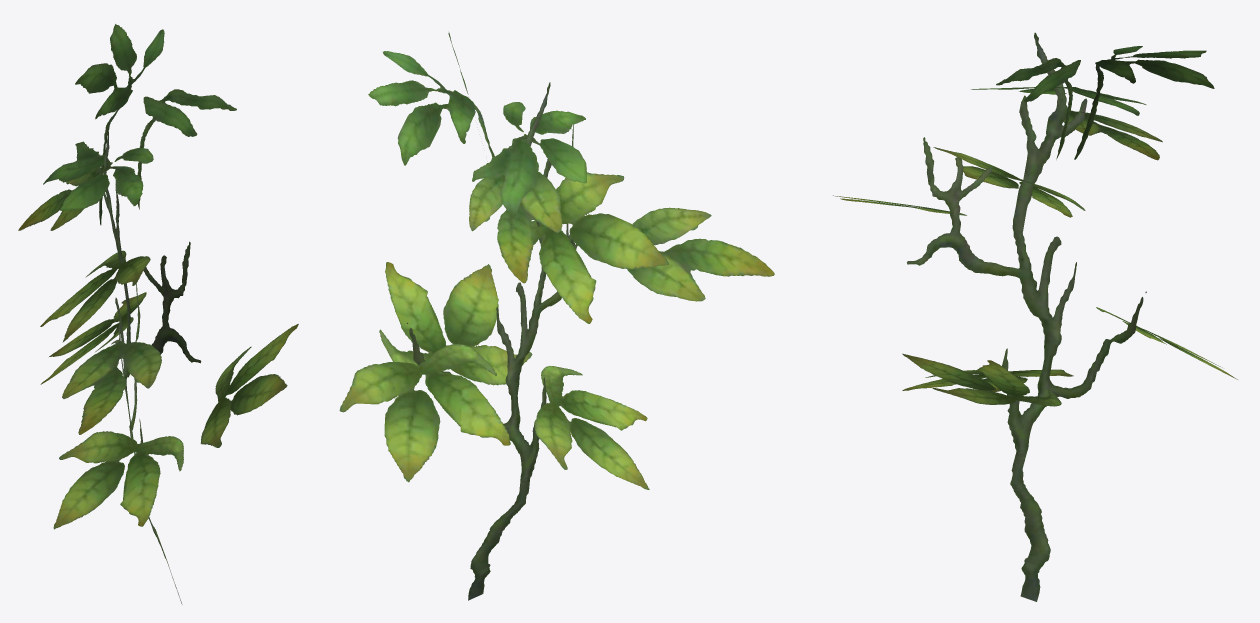
File: zhiwu_25.FBX
3 renders of one model, left to right at view 1: azimuth 30°, elevation 25°; view 2: azimuth 150°, elevation 25°; view 3: azimuth 270°, elevation 25°, orthographic. The views are drawn at different scales.
Parts seen in each view (by area): view 1: zhiwu_10; view 2: zhiwu_10; view 3: zhiwu_10.
Part boxes in pixels (box(x1,y1,x2,y2)): zhiwu_10: box(18, 24, 298, 604); zhiwu_10: box(339, 32, 774, 600); zhiwu_10: box(833, 32, 1237, 601).
Size of the model in its own units: 0.7797 by 1.34 by 0.9049.
